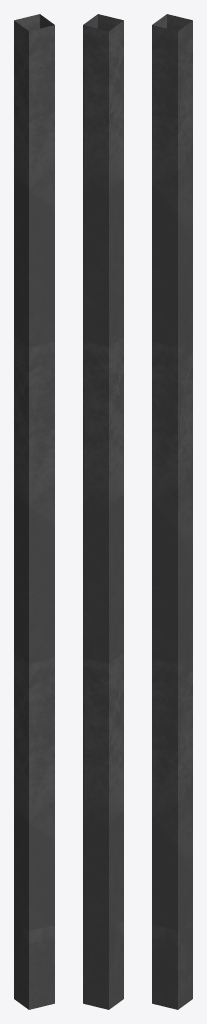
The model's file is pole_roof_200cm.obj.
The picture shows the model from 3 angles, left to right: view 1: azimuth 30°, elevation 25°; view 2: azimuth 150°, elevation 25°; view 3: azimuth 330°, elevation 25°; orthographic projection.
Visible parts, largest first — view 1: pole_r200, pole_end_r200; view 2: pole_r200, pole_end_r200; view 3: pole_r200, pole_end_r200.
Part boxes in pixels (bbox=[...]): pole_r200: bbox=[14, 14, 54, 930]; pole_end_r200: bbox=[14, 920, 54, 1009]; pole_r200: bbox=[83, 14, 123, 930]; pole_end_r200: bbox=[83, 920, 123, 1009]; pole_r200: bbox=[152, 14, 192, 930]; pole_end_r200: bbox=[152, 920, 192, 1009].
Size of the model in its own units: 0.0604 by 2.18 by 0.0604.
Materials: 1 (1 with a texture image).
